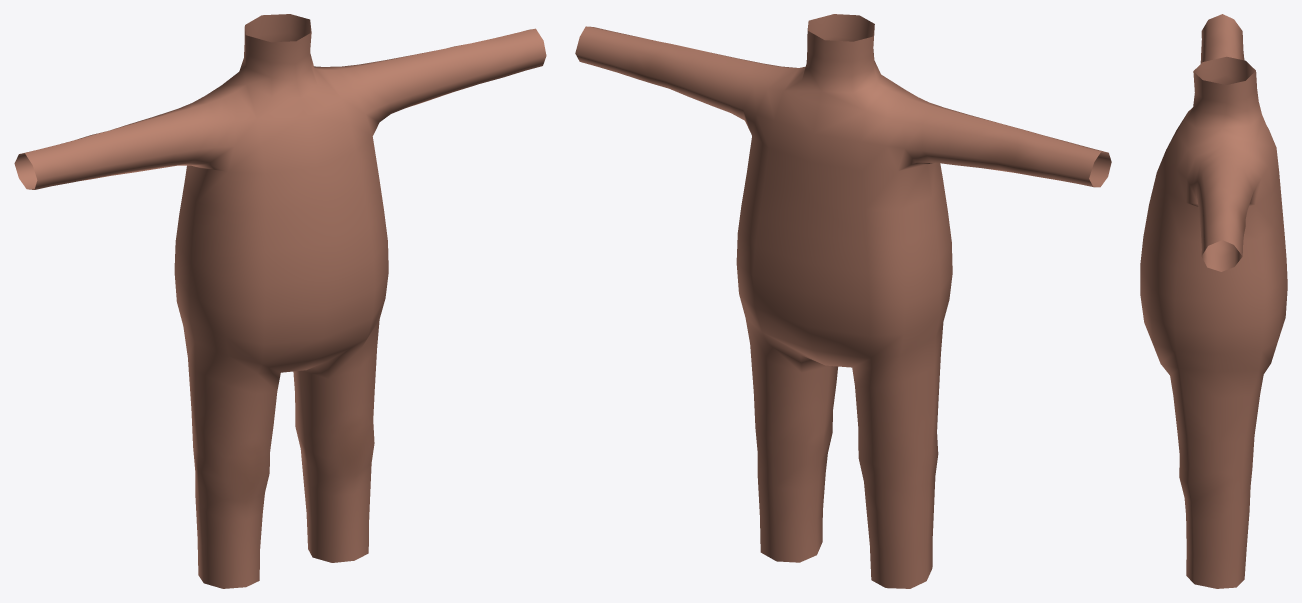
The model's file is Body_Brown_4.fbx.
3 renders of one model, left to right at view 1: azimuth 30°, elevation 25°; view 2: azimuth 150°, elevation 25°; view 3: azimuth 270°, elevation 25°, orthographic. The views are drawn at different scales.
Visible parts, largest first — view 1: Body_Brown_4; view 2: Body_Brown_4; view 3: Body_Brown_4.
Part boxes in pixels (box(x1,y1,x2,y2)): Body_Brown_4: box(14, 14, 546, 588); Body_Brown_4: box(575, 14, 1111, 588); Body_Brown_4: box(1140, 14, 1287, 588).
Size of the model in its own units: 95.86 by 95.87 by 26.46.
